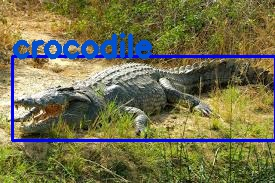crocodile: (11, 56, 275, 139)
